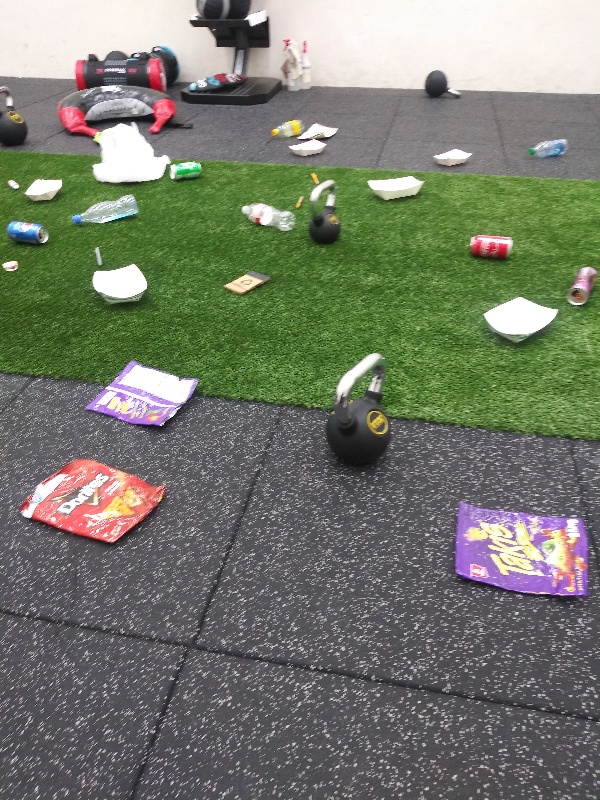bag: (447, 495, 596, 606), (14, 459, 171, 551), (81, 358, 203, 433), (298, 120, 343, 142)
bottle: (71, 188, 141, 230), (238, 201, 297, 233), (524, 136, 572, 160), (269, 116, 307, 140)
can: (465, 230, 517, 261), (568, 263, 600, 313), (9, 219, 53, 248), (167, 159, 207, 184)
plate: (479, 293, 563, 349), (86, 259, 151, 311), (365, 174, 426, 201), (21, 174, 66, 207), (429, 147, 476, 172), (286, 137, 331, 162)
